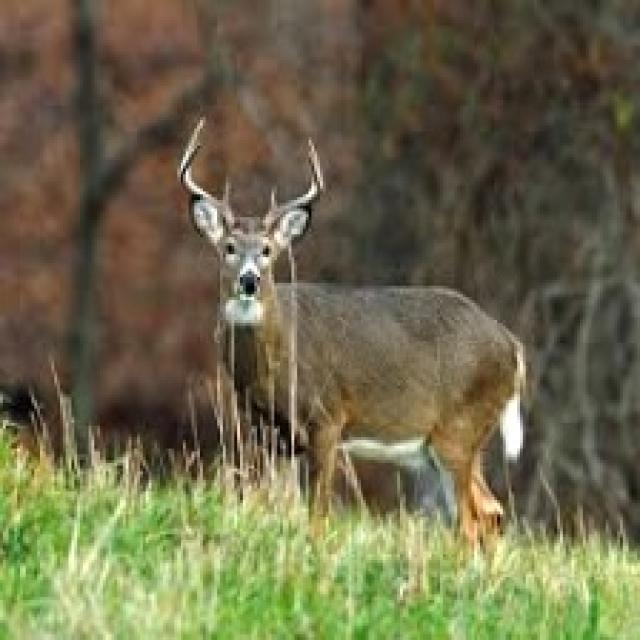bear: (141, 116, 598, 562)
